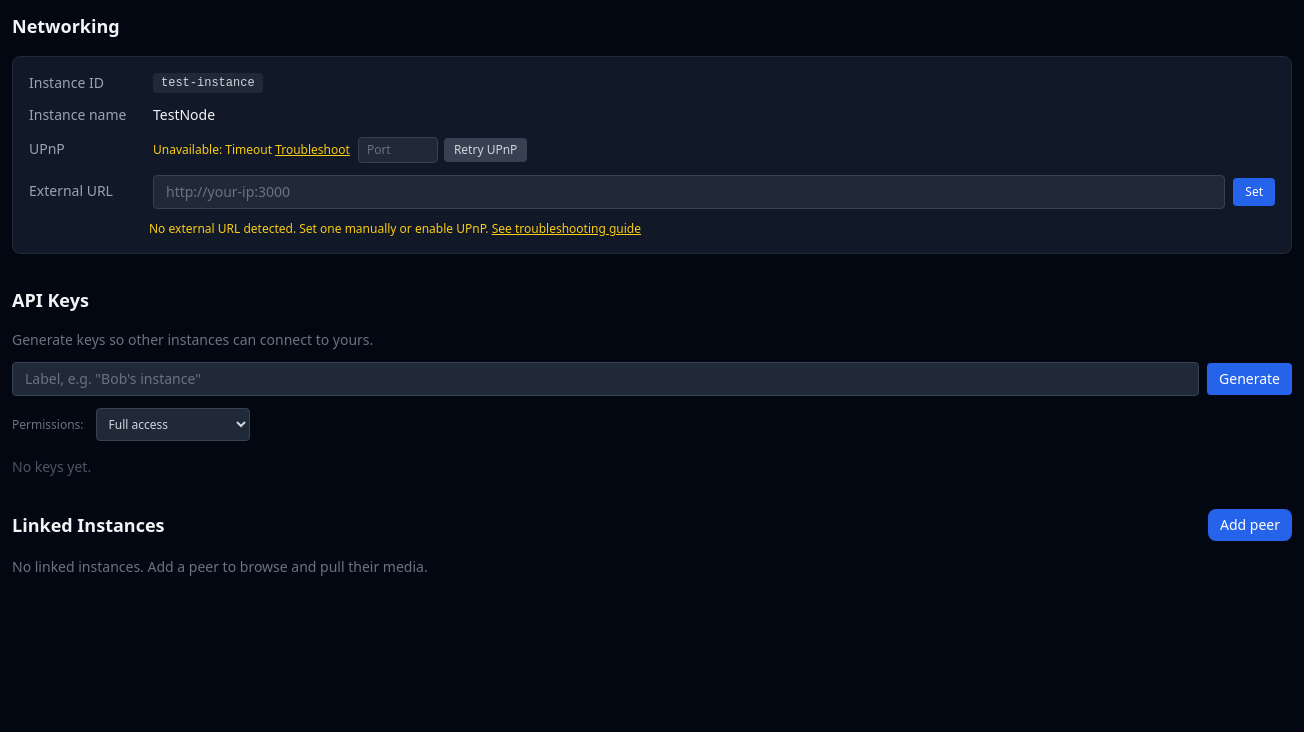
Scenario: Peers › UPnP retry › updates UI when retry succeeds
This screenshot has width=1304, height=732.
Click the button "Retry UPnP": (486, 150) 444,138 -> 527,162
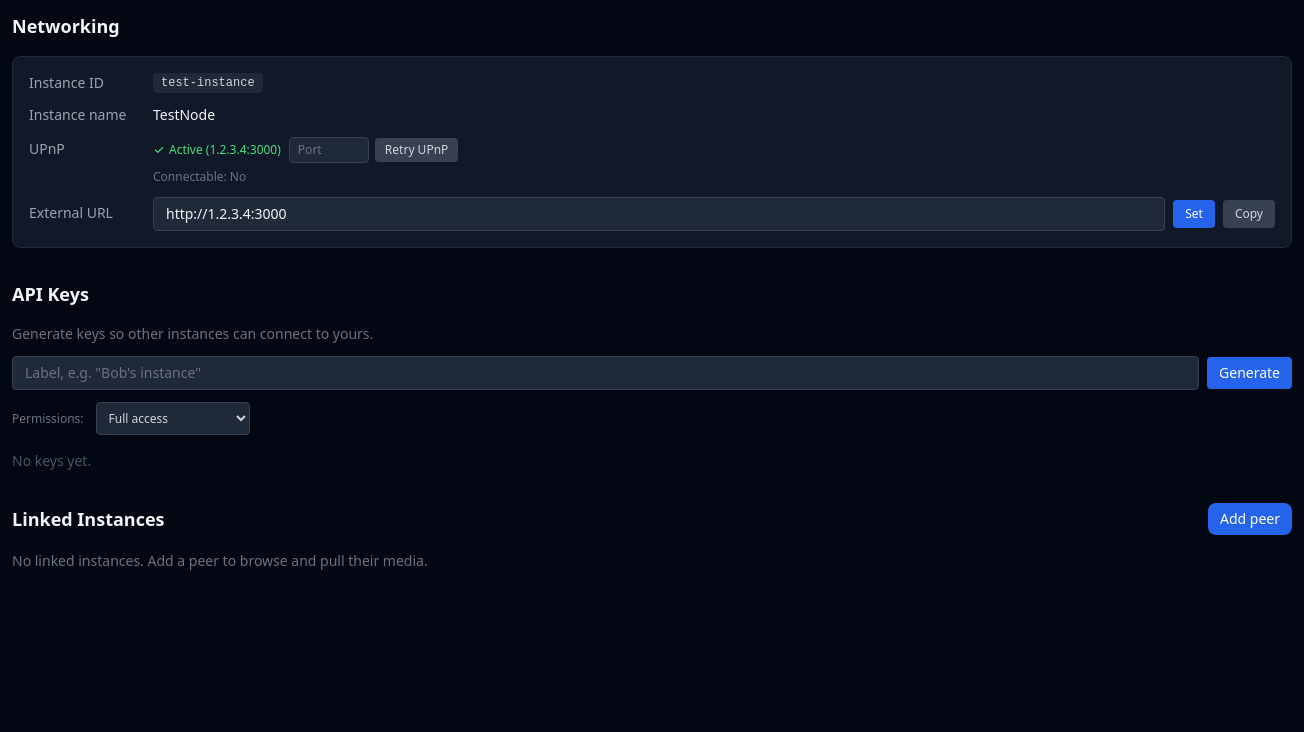
Now the text "Active (1.2.3.4:3000)" is shown, box 153,142 -> 281,158
